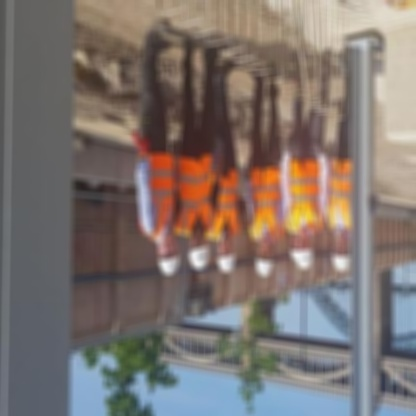vest: (175, 150, 220, 239), (138, 151, 180, 245), (286, 154, 330, 240), (246, 160, 287, 245), (209, 164, 243, 247), (326, 150, 355, 243)
white: (190, 243, 212, 272), (329, 250, 353, 274), (159, 254, 183, 278), (217, 248, 239, 274), (256, 254, 276, 279), (298, 246, 315, 272)
